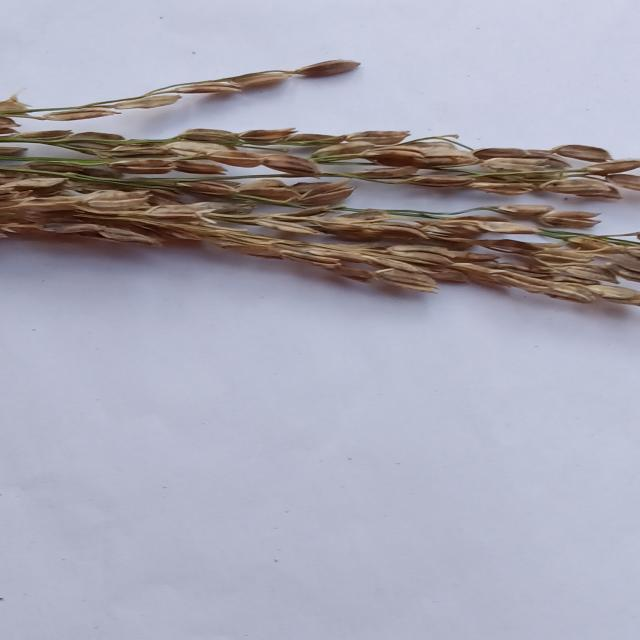Neck_Blast: (0, 191, 640, 304), (6, 127, 640, 197), (0, 50, 360, 122)
